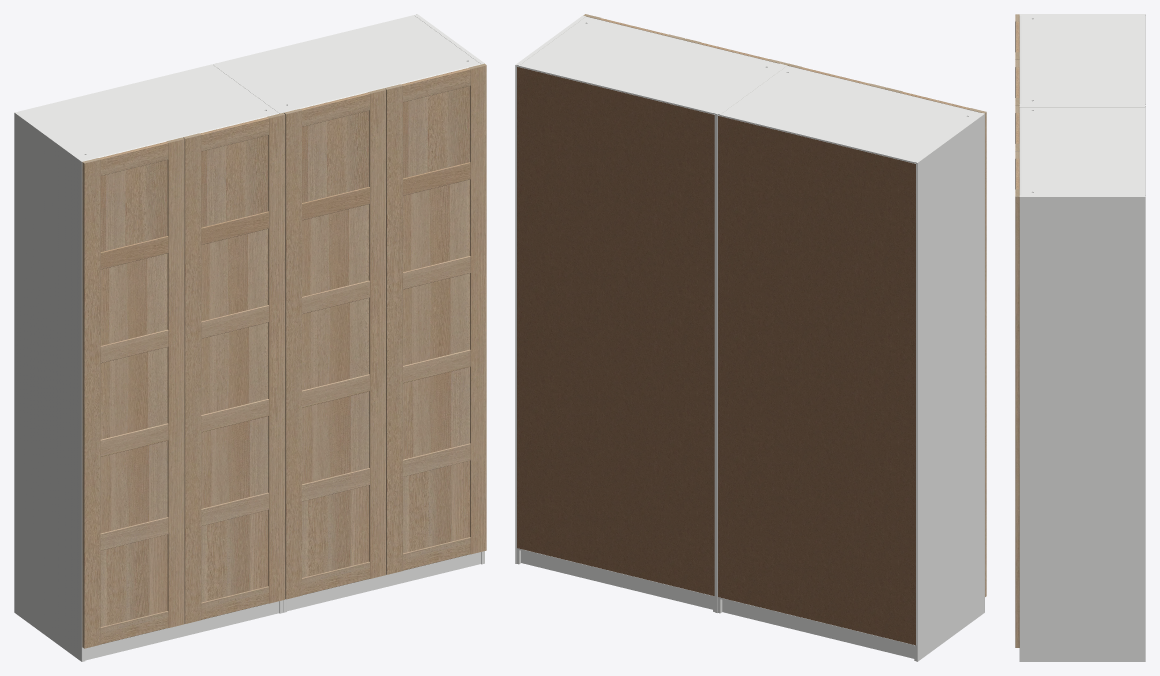
3 views of the same model, side by side, from view 1: azimuth 30°, elevation 25°; view 2: azimuth 150°, elevation 25°; view 3: azimuth 270°, elevation 25° (orthographic). The views are drawn at different scales.
Parts seen in each view (by area): view 1: 29478256_wardrobe:5, 29478256_wardrobe:1; view 2: 29478256_wardrobe:2, 29478256_wardrobe:1, 29478256_wardrobe:5; view 3: 29478256_wardrobe:1, 29478256_wardrobe:5, 29478256_wardrobe:6.
Part boxes in pixels (<box>): 29478256_wardrobe:5: <box>82,65,486,648</box>; 29478256_wardrobe:1: <box>14,14,484,661</box>; 29478256_wardrobe:2: <box>517,67,915,645</box>; 29478256_wardrobe:1: <box>515,15,984,661</box>; 29478256_wardrobe:5: <box>587,16,986,596</box>; 29478256_wardrobe:1: <box>1019,14,1145,661</box>; 29478256_wardrobe:5: <box>1015,21,1019,647</box>; 29478256_wardrobe:6: <box>1015,14,1019,196</box>.
Size of the model in its own units: 2 by 2.36 by 0.599.
8 materials, 5 textured.
